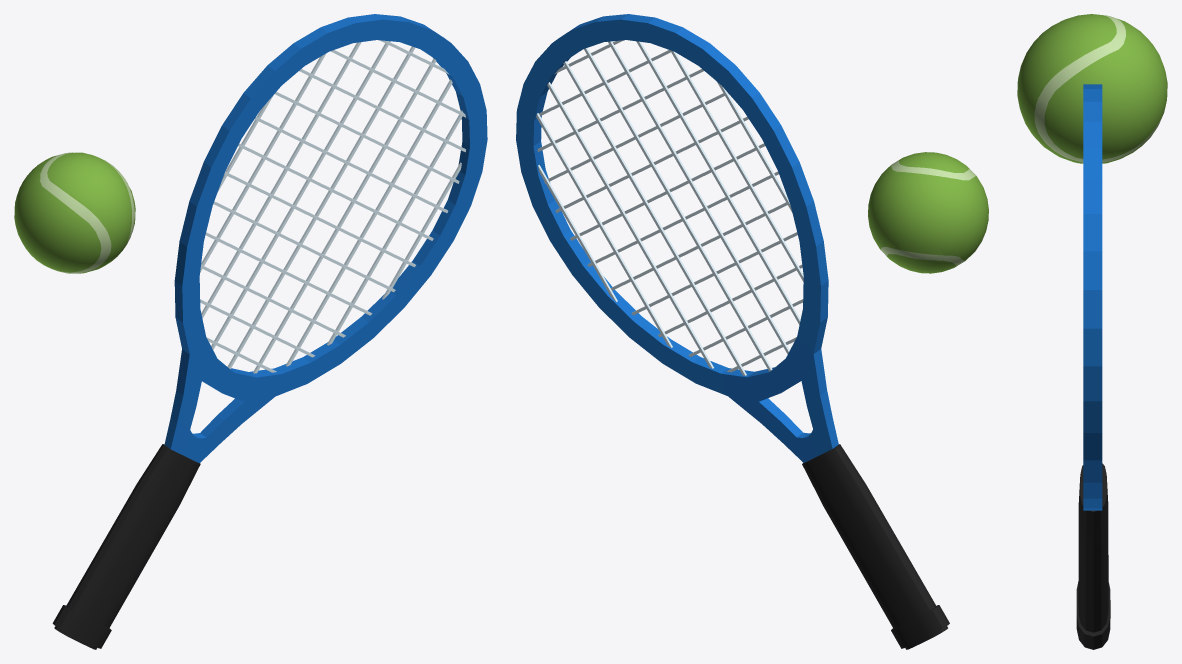
Rendered from tennis.glb.
The picture shows the model from 3 angles, left to right: view 1: azimuth 30°, elevation 25°; view 2: azimuth 150°, elevation 25°; view 3: azimuth 270°, elevation 25°; orthographic projection. The views are drawn at different scales.
Parts seen in each view (by area): view 1: Cube.815; view 2: Cube.815; view 3: Cube.815.
Boxes of the visible parts, <box> form: Cube.815: <box>14,14,487,649</box>; Cube.815: <box>516,14,988,649</box>; Cube.815: <box>1017,14,1167,649</box>.
Size of the model in its own units: 2.01 by 2.36 by 0.4589.
1 material, 1 textured.
